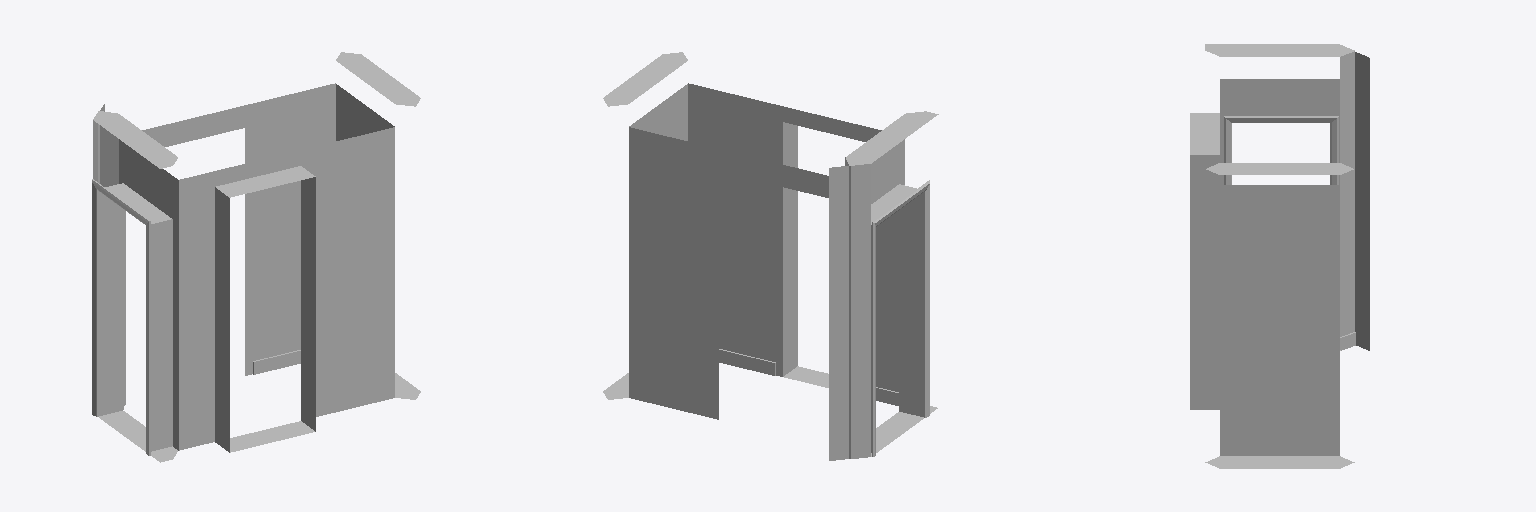
File: Aisle-4657w.obj
3 views of the same model, side by side, from view 1: azimuth 30°, elevation 25°; view 2: azimuth 150°, elevation 25°; view 3: azimuth 270°, elevation 25° (orthographic).
Bounding box in the file's own units: 2.51 × 2.6 × 1.44.